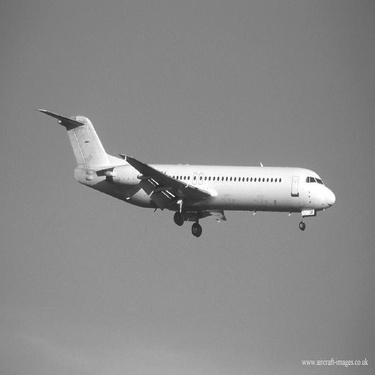airplane: (22, 96, 346, 239)
